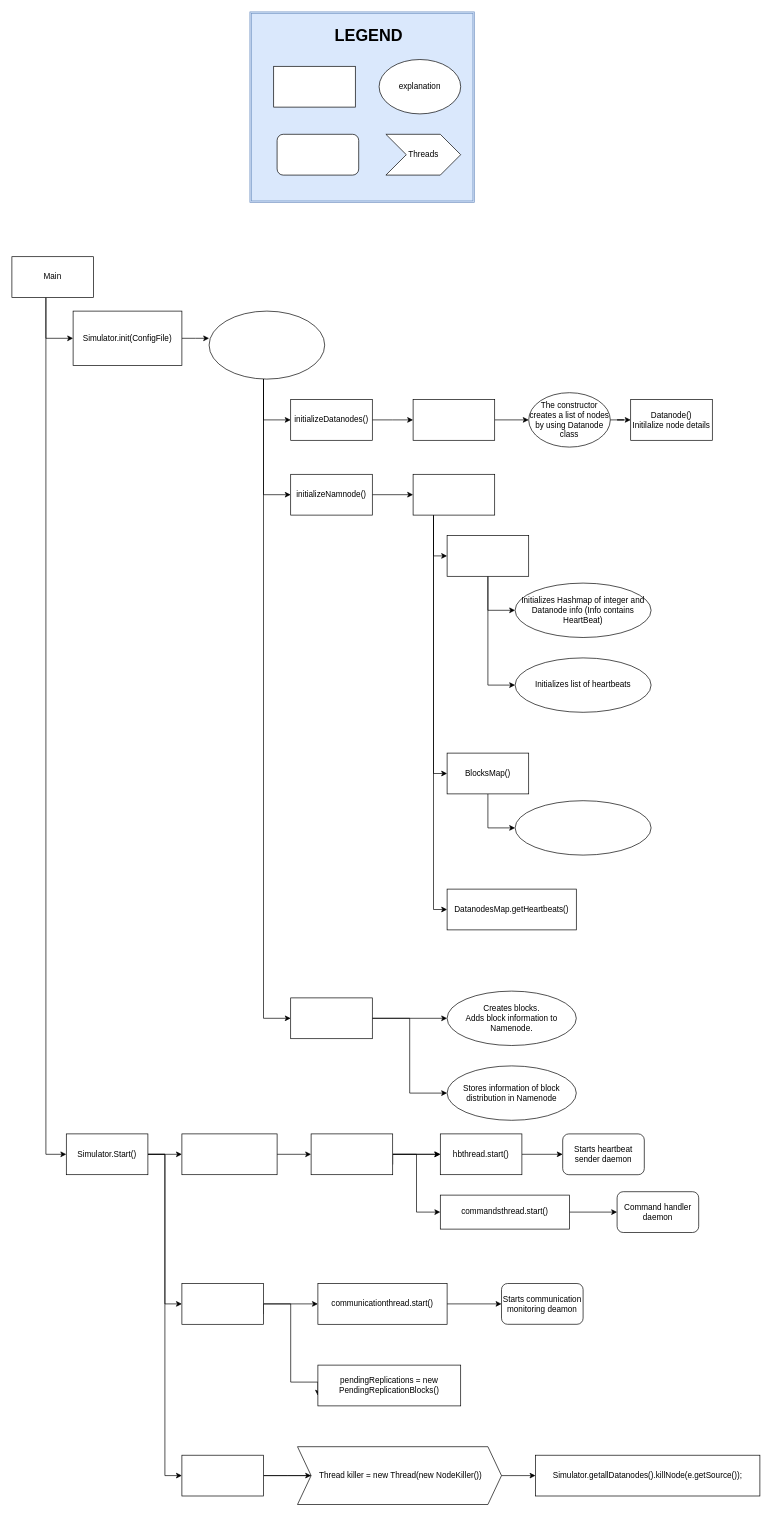
This 772x1516 diagram has some shape labels left out. Here are the shapes that lost their labels. From the top down, the centre of each, then its label:
At (x=314, y=86): "Function call".
At (x=317, y=154): "Daemon".
At (x=266, y=344): "Initializes Namenode, DataNode and blocks. Using corresponding functions".
At (x=453, y=419): "AllDatanode()".
At (x=453, y=494): "Namenode()".
At (x=487, y=555): "DatanodesMap()".
At (x=582, y=827): "Initializes Hashmap of integer and Block info".
At (x=331, y=1018): "initializeBlocks()".
At (x=229, y=1154): "allDatanodes.start() = new AllDatanode();".
At (x=351, y=1154): "new AllDatanode();".
At (x=222, y=1303): "Namenode.start()".
At (x=222, y=1475): "StartFailure()".
